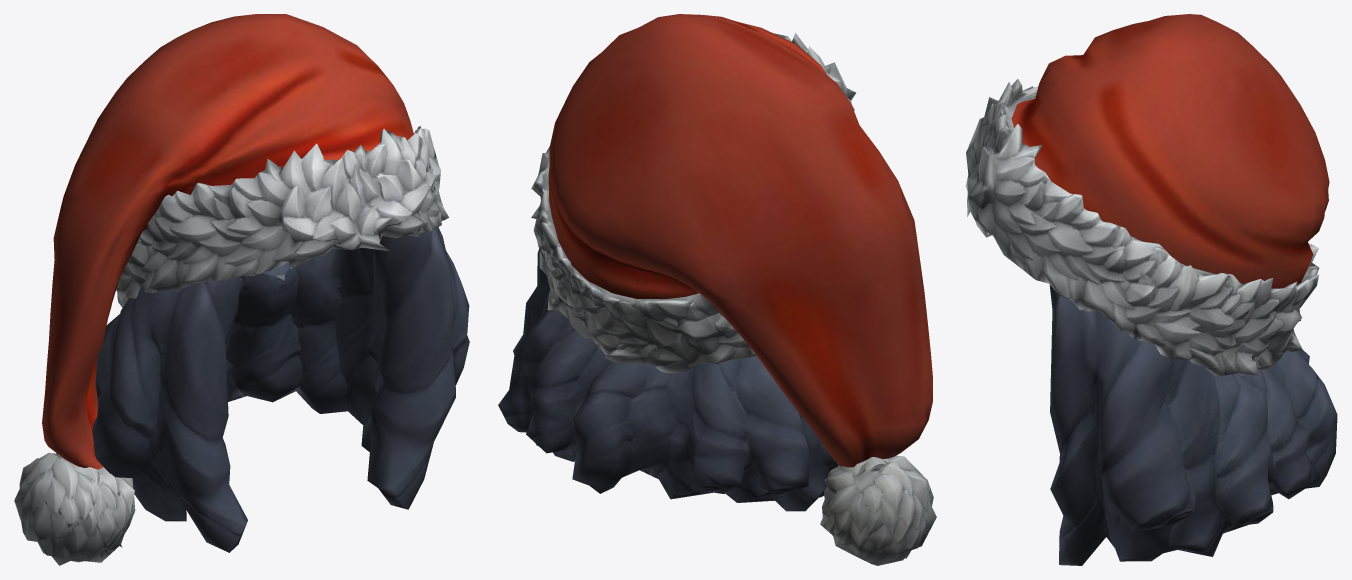
The picture shows the model from 3 angles, left to right: view 1: azimuth 30°, elevation 25°; view 2: azimuth 150°, elevation 25°; view 3: azimuth 270°, elevation 25°; orthographic projection. The views are drawn at different scales.
Parts seen in each view (by area): view 1: Wolf3D_Headwear; view 2: Wolf3D_Headwear; view 3: Wolf3D_Headwear.
Part boxes in pixels (box(x1,y1,x2,y2)): Wolf3D_Headwear: box(14, 14, 469, 565); Wolf3D_Headwear: box(498, 14, 936, 565); Wolf3D_Headwear: box(965, 14, 1337, 565).
Size of the model in its own units: 0.2986 by 0.338 by 0.2227.
1 material, 1 textured.
